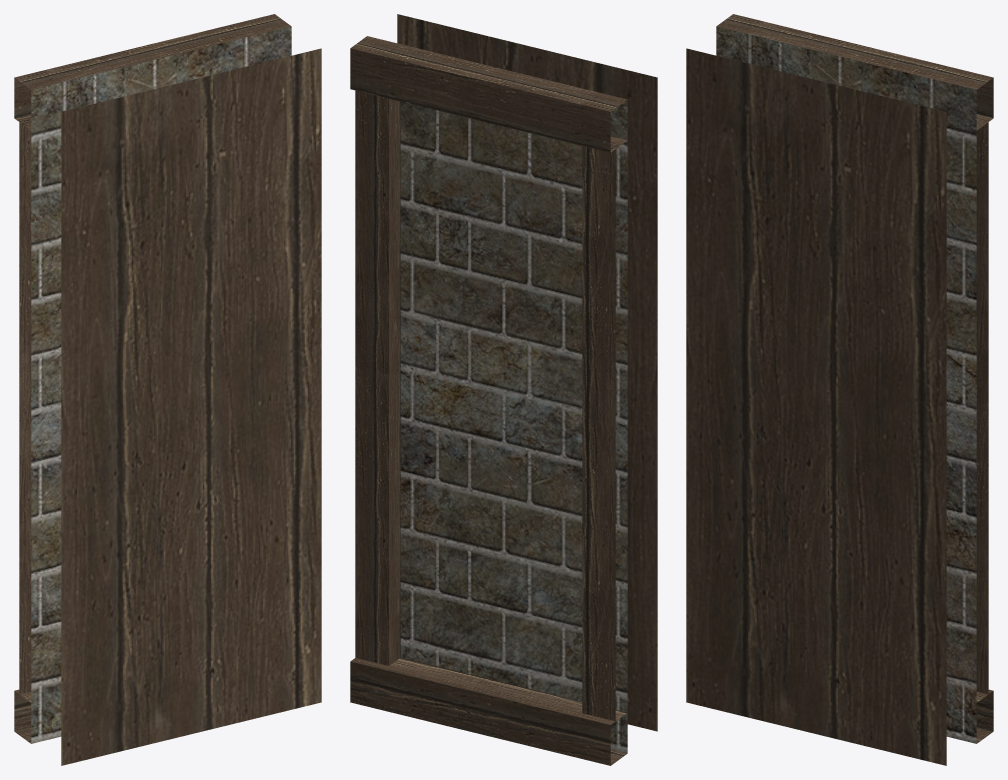
The model's file is ARC1010218.fbx.
The picture shows the model from 3 angles, left to right: view 1: azimuth 30°, elevation 25°; view 2: azimuth 150°, elevation 25°; view 3: azimuth 330°, elevation 25°; orthographic projection.
Visible parts, largest first — view 1: smARC1010218; view 2: smARC1010218; view 3: smARC1010218.
Part boxes in pixels (box(x1,y1,x2,y2)): smARC1010218: box(14, 14, 321, 765); smARC1010218: box(350, 14, 657, 765); smARC1010218: box(686, 14, 993, 765).
Bounding box in the file's own units: 112 × 268 × 34.9.
Materials: 1 (1 with a texture image).
